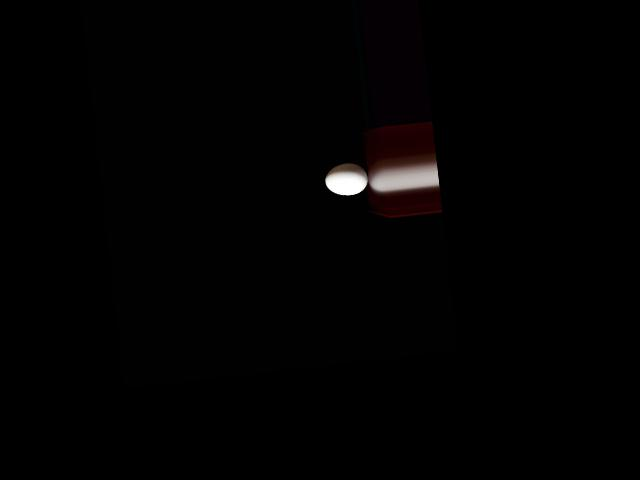egg: (323, 162, 369, 198)
